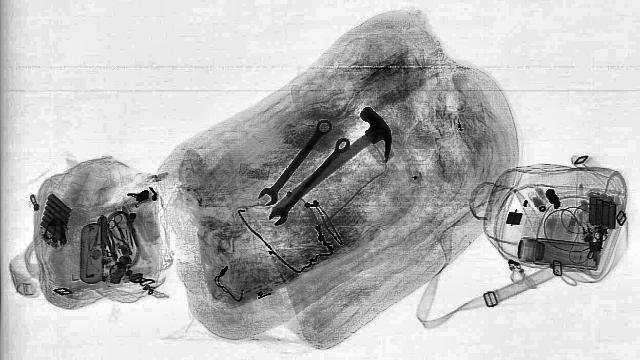Wrench: (261, 135, 359, 225), (249, 118, 337, 207)
